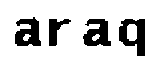a: (12, 19, 45, 53), (80, 17, 114, 48)
q: (116, 15, 153, 58)
r: (46, 15, 76, 50)
